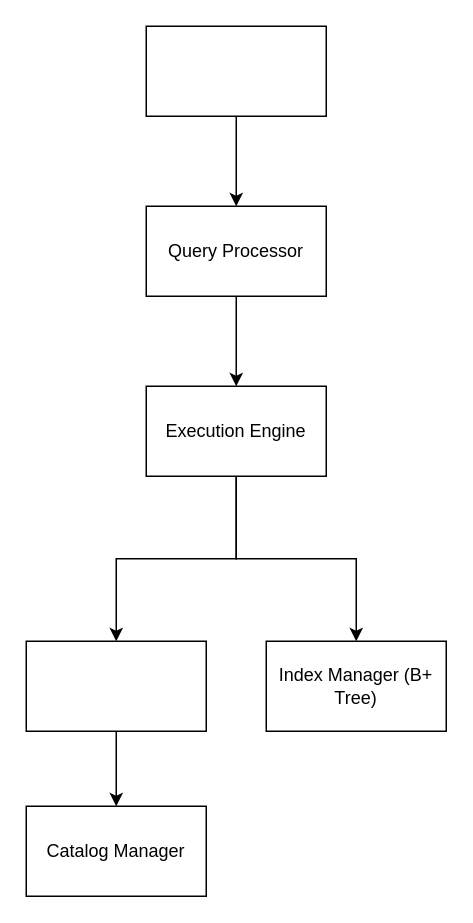
This 473x923 diagram has some shape labels left out. The shapes that lost their labels are listed below. From the top down, each one's centre as x and y in pixels, then its label:
point 235,70: Client/User
point 115,685: Storage Manager
